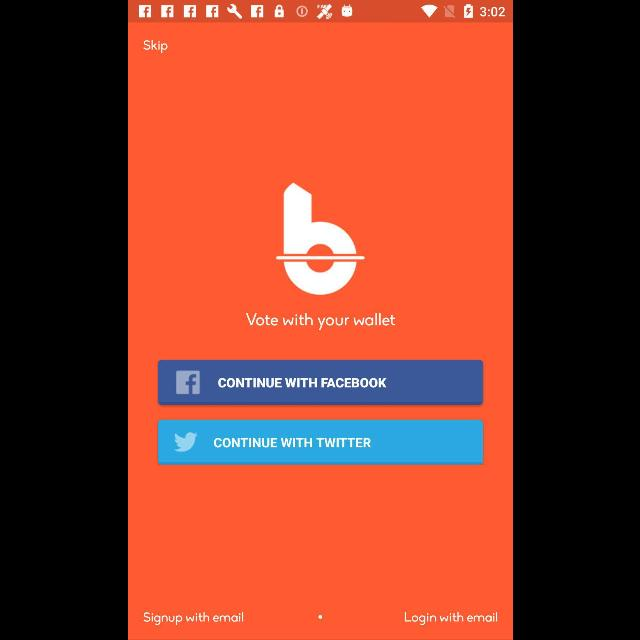image: (276, 182, 364, 296)
text: (245, 312, 395, 330), (404, 612, 496, 626), (143, 612, 243, 624), (143, 40, 167, 54)
textbutton: (158, 360, 482, 406), (158, 420, 482, 464)
uppertaskbar: (128, 1, 512, 23)
